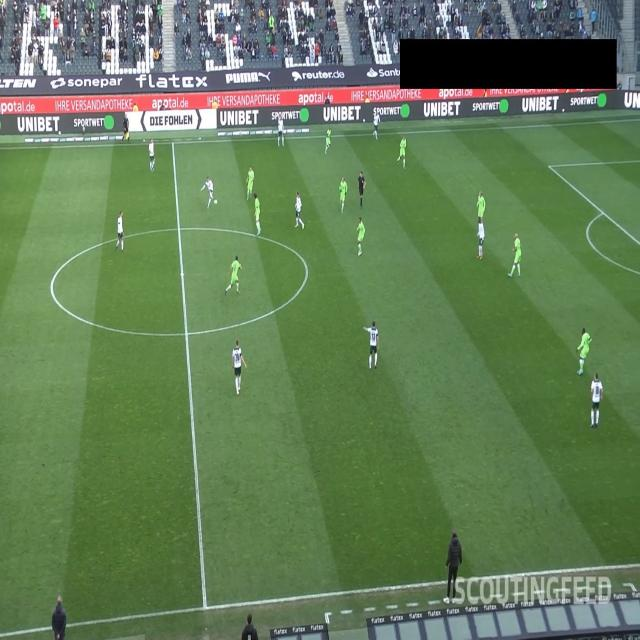ball: (213, 198, 218, 205)
